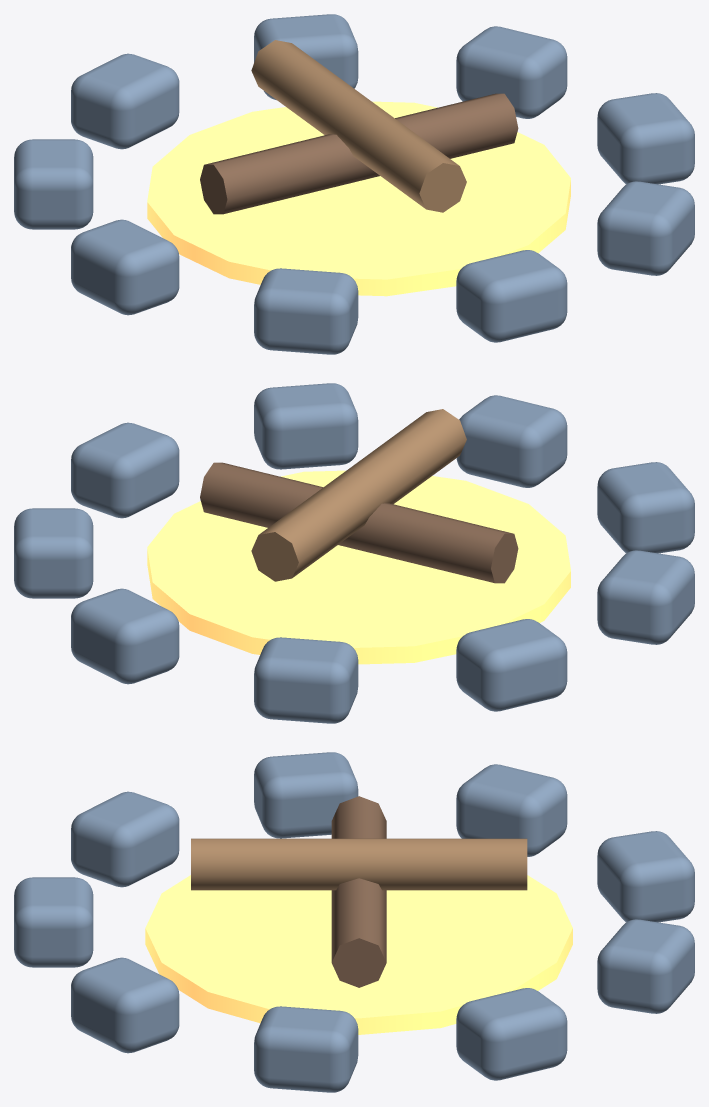
The model's file is campfire.glb.
3 views of the same model, one above another, from view 1: azimuth 30°, elevation 25°; view 2: azimuth 150°, elevation 25°; view 3: azimuth 270°, elevation 25° (orthographic).
Parts seen in each view (by area): view 1: mesh; view 2: mesh; view 3: mesh.
Boxes of the visible parts, <box> form: mesh: <box>14,14,694,354</box>; mesh: <box>14,383,694,723</box>; mesh: <box>14,752,694,1092</box>.
Size of the model in its own units: 2.26 by 0.41 by 2.23.
